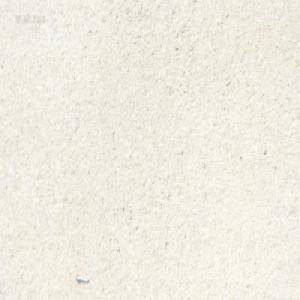Nail: (75, 272, 90, 282)
